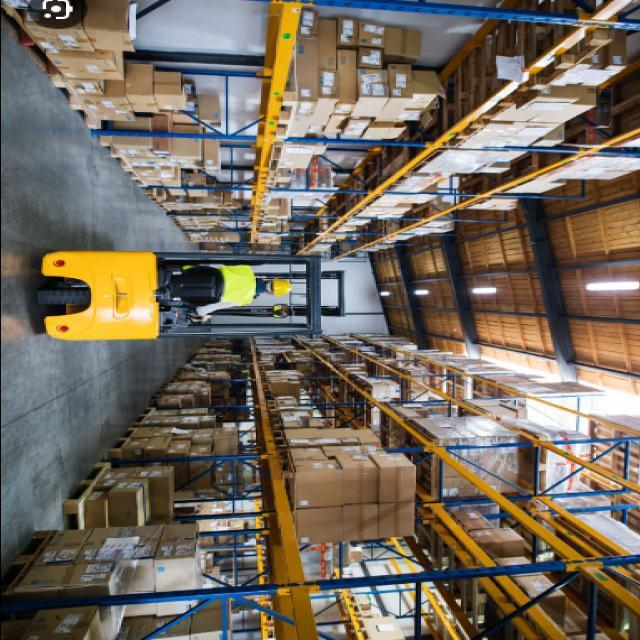hard_hat: (259, 277, 295, 297)
vest: (182, 265, 260, 308)
